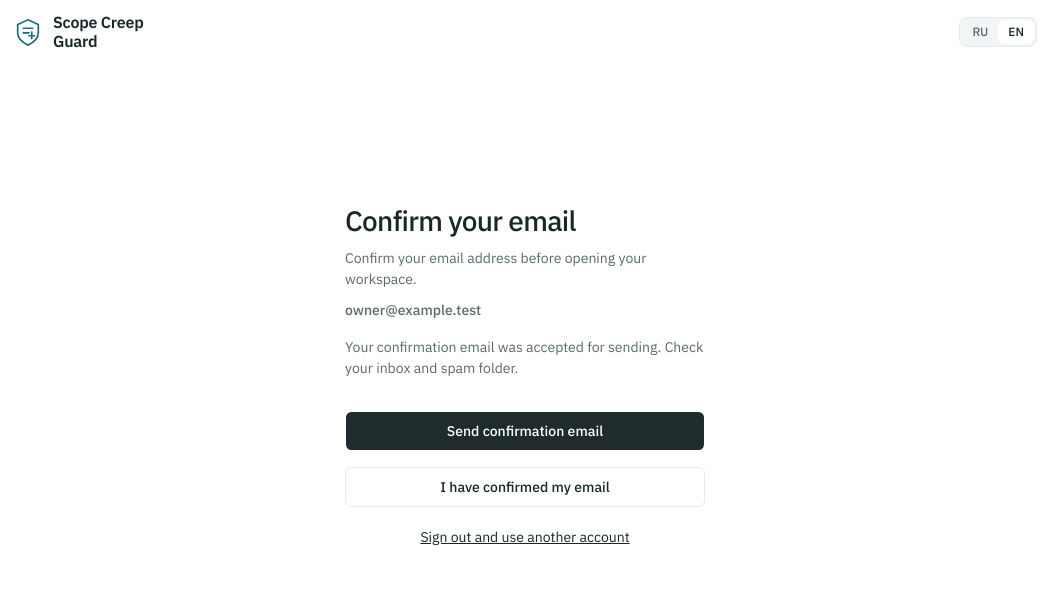
Scenario: uses neutral last-send wording if the resend response is lost
This screenshot has width=1054, height=591.
Click the button "Send confirmation email".
click(525, 431)  # box [345,411,705,451]
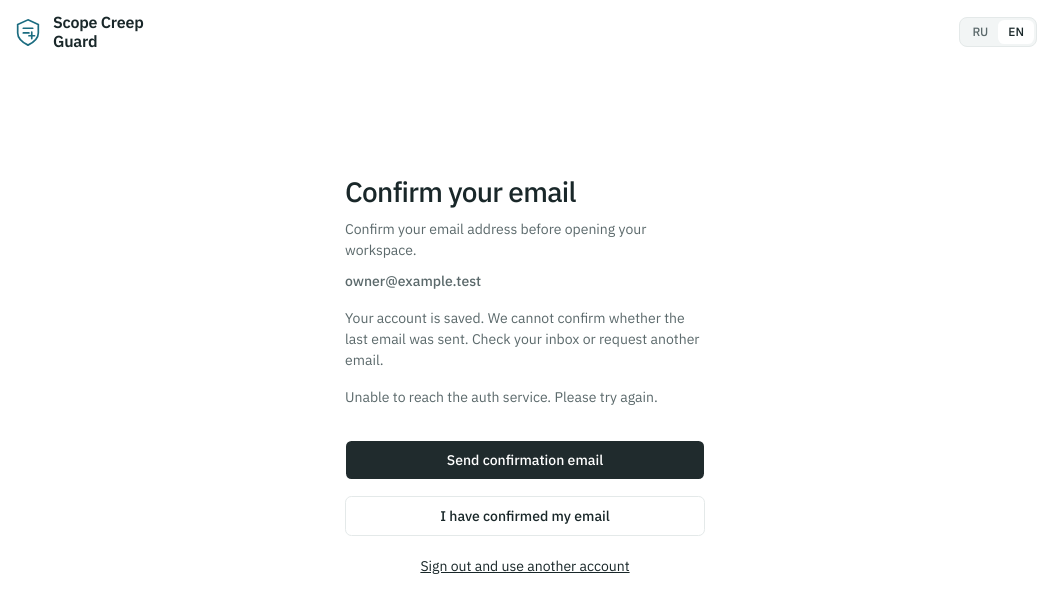
Result: the message "Unable to reach the auth service. Please try again." is shown at [345,387,705,408]
Result: the 1st message shows "cannot confirm" at [345,309,700,369]
